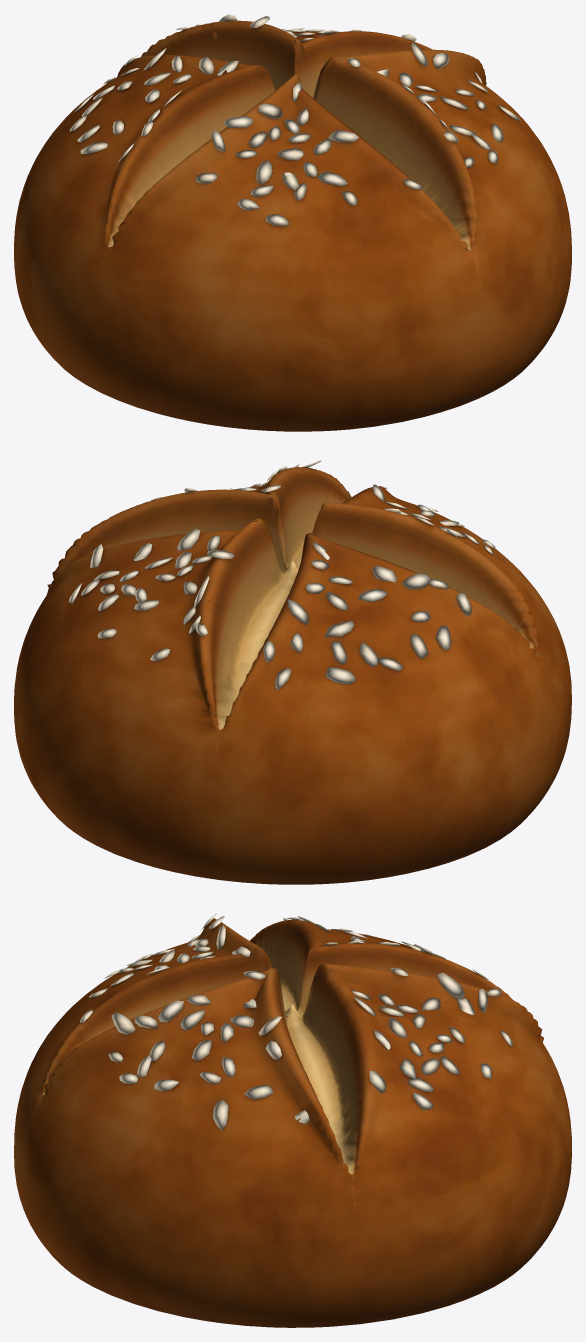
Rendered from campagne--coconut-dried.glb.
3 renders of one model, top to bottom at view 1: azimuth 30°, elevation 25°; view 2: azimuth 150°, elevation 25°; view 3: azimuth 270°, elevation 25°, orthographic.
Parts seen in each view (by area): view 1: campagne_coconut-dried; view 2: campagne_coconut-dried; view 3: campagne_coconut-dried.
Part boxes in pixels (left/top/right/bottom): campagne_coconut-dried: left=14, top=14, right=571, bottom=431; campagne_coconut-dried: left=14, top=460, right=571, bottom=884; campagne_coconut-dried: left=14, top=913, right=571, bottom=1327.
Bounding box in the file's own units: 0.9988 × 0.5312 × 0.9991.
Materials: 1 (1 with a texture image).
